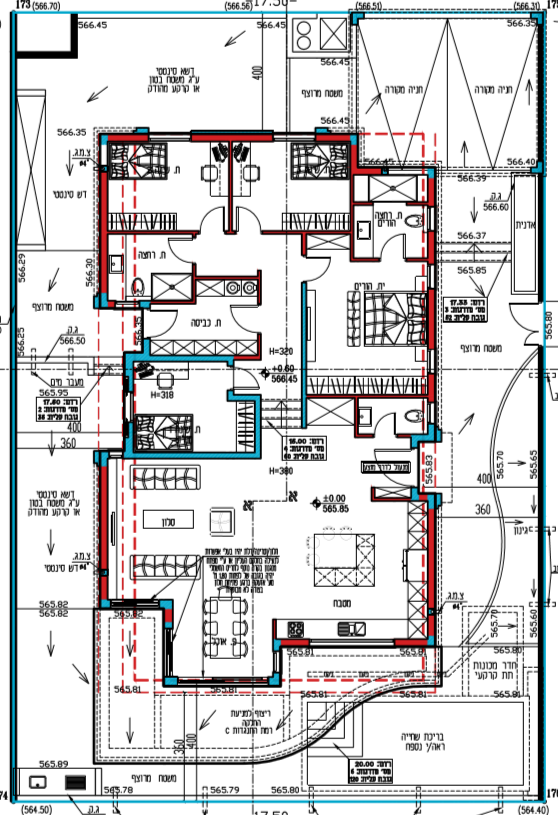door: (503, 299, 536, 348), (234, 199, 263, 226), (162, 236, 189, 263), (310, 254, 337, 281), (197, 204, 227, 228), (238, 367, 266, 391), (380, 229, 406, 254), (374, 408, 397, 430)
wall: (22, 43, 81, 62), (23, 50, 68, 57), (71, 23, 76, 57)
window: (306, 636, 396, 651), (146, 127, 194, 147), (270, 128, 319, 144)
